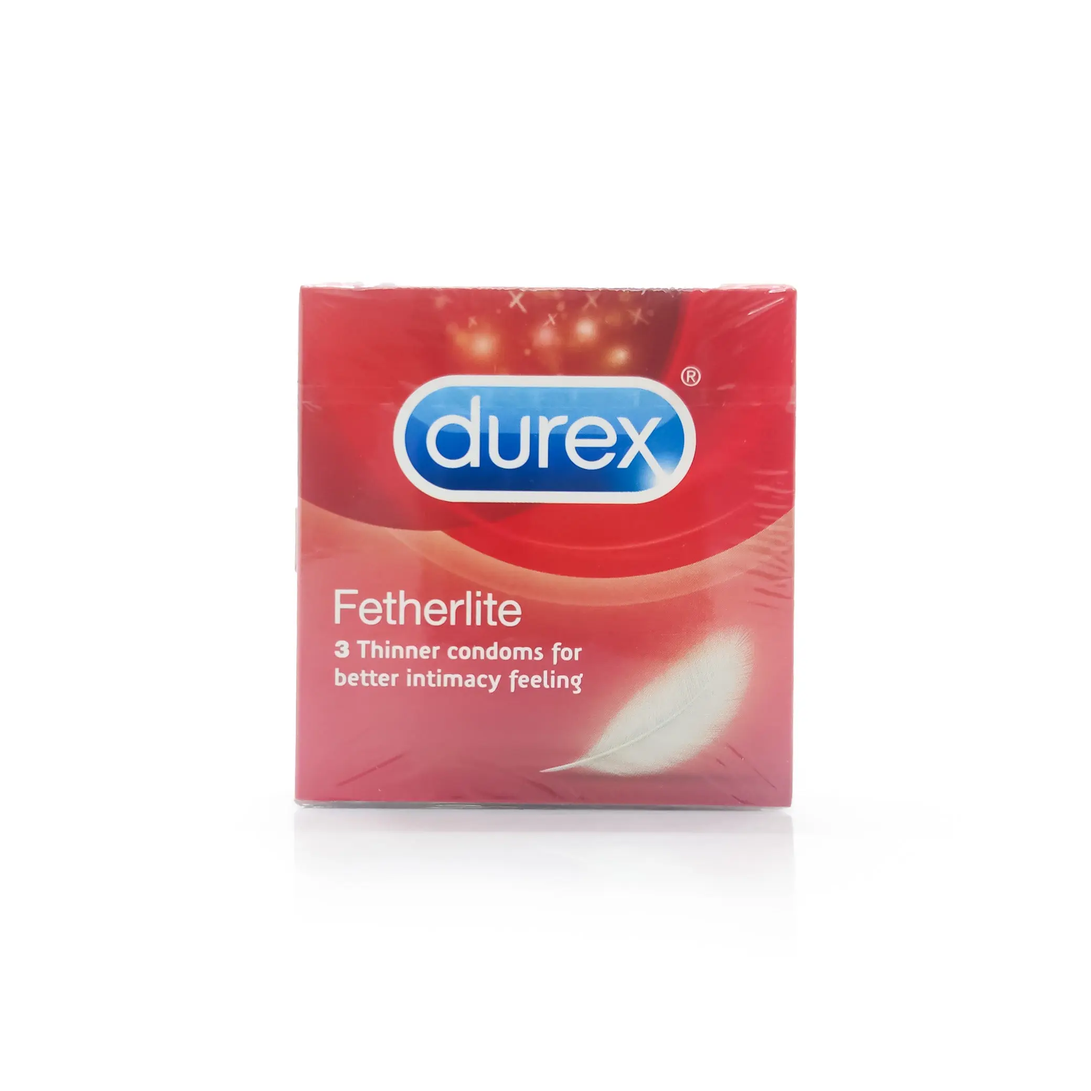non-toxic_waste: (298, 287, 790, 802)
